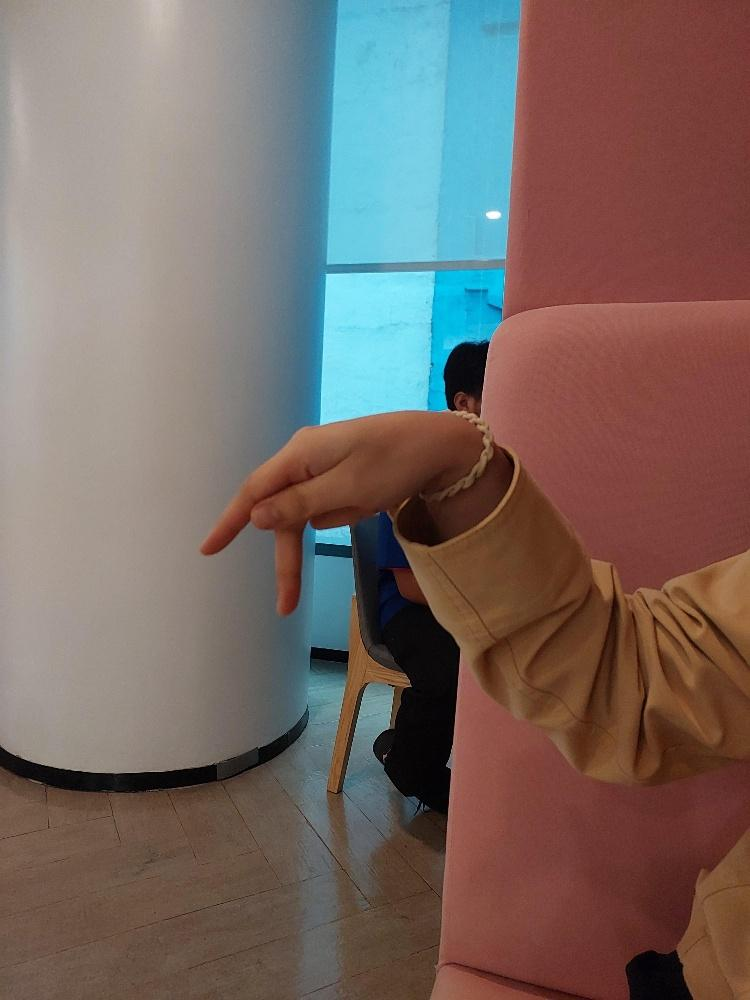p: (192, 401, 504, 625)
